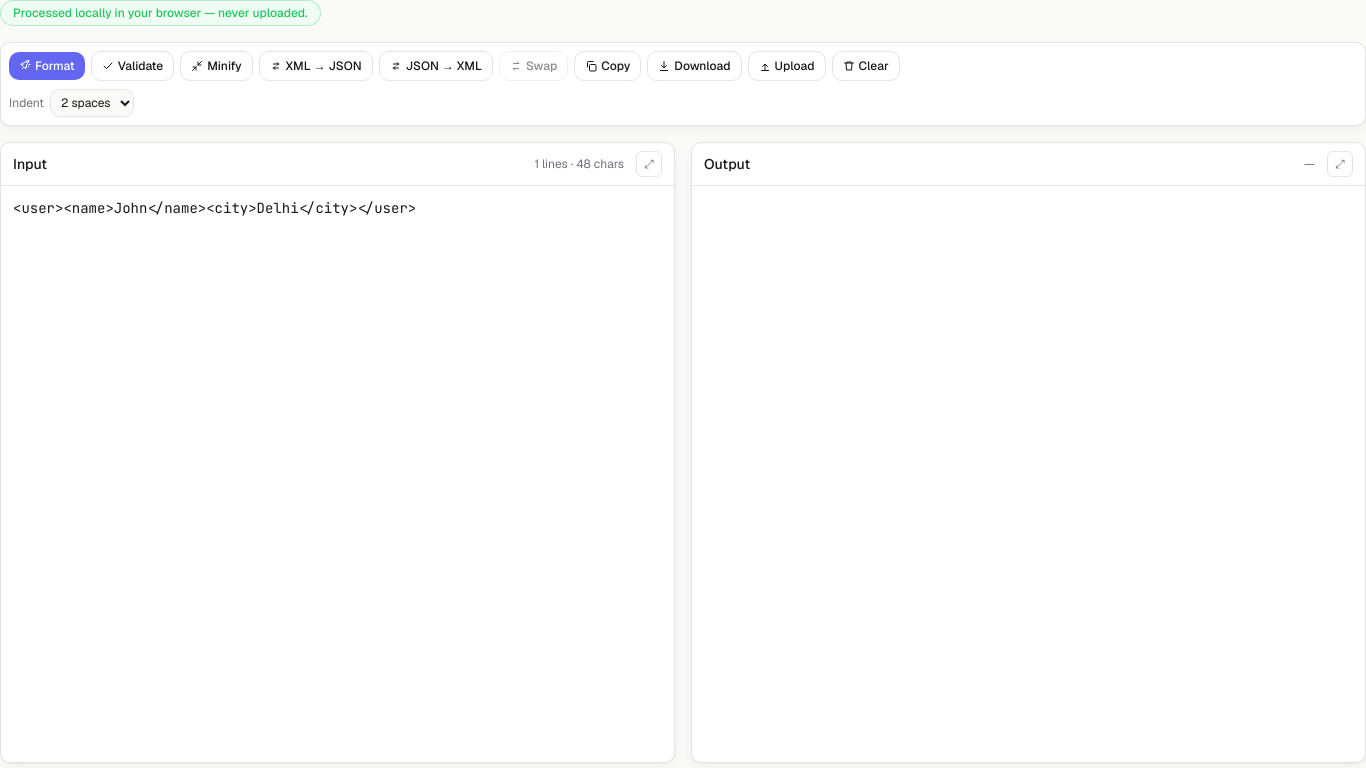
Scenario: XmlTool › formats XML on Format click
Step 1. Clear the text box named "input" → [338, 474], box [1,186,674,762]
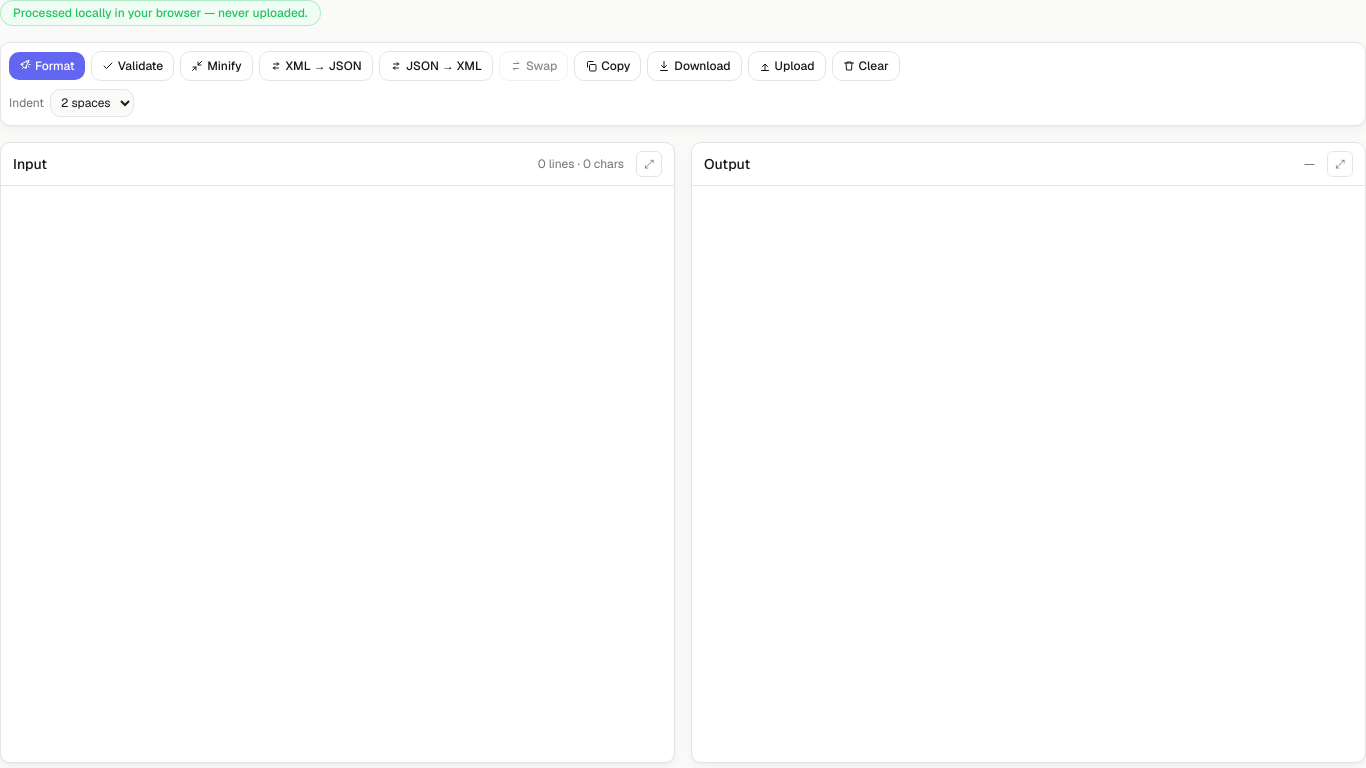
Step 2. Type keys "<a><b>x</b></a>"
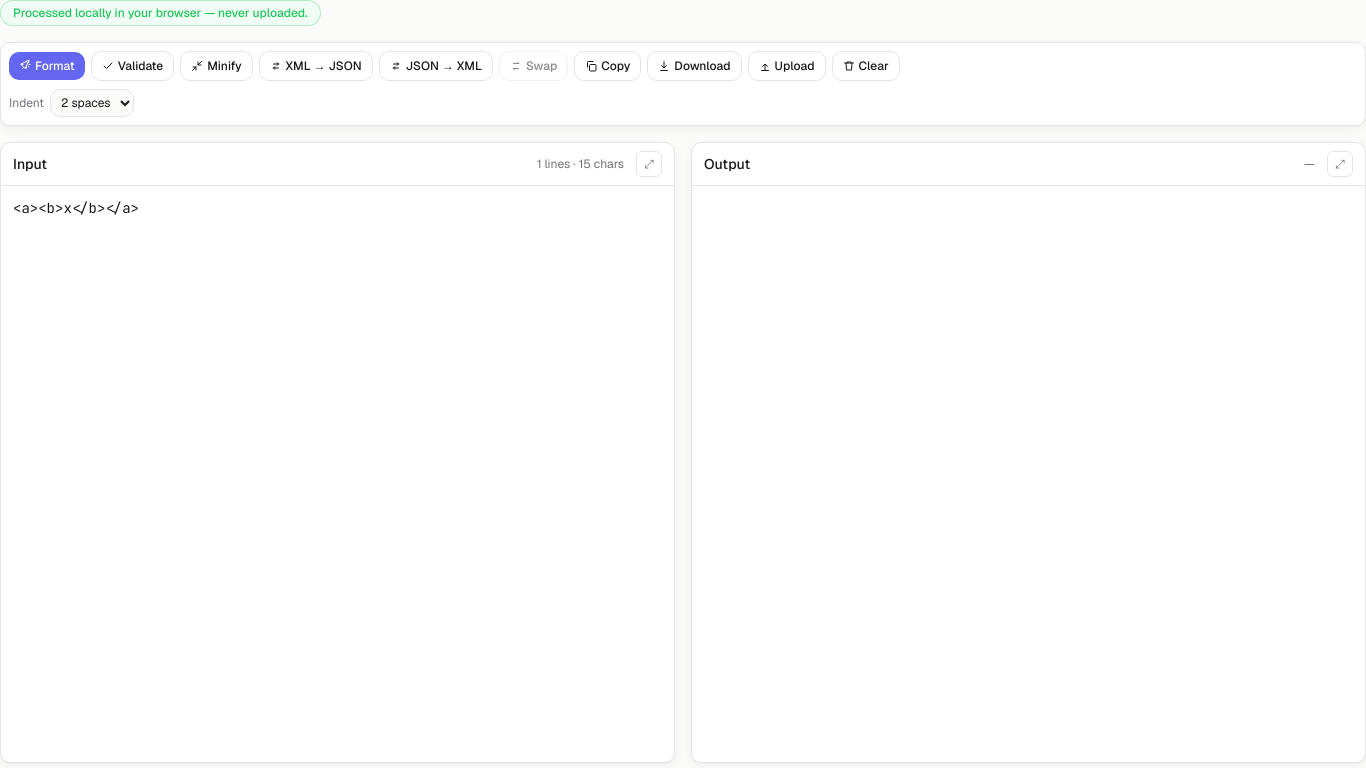
Step 3. Click the button "Format" → [47, 66], box [9,52,85,80]
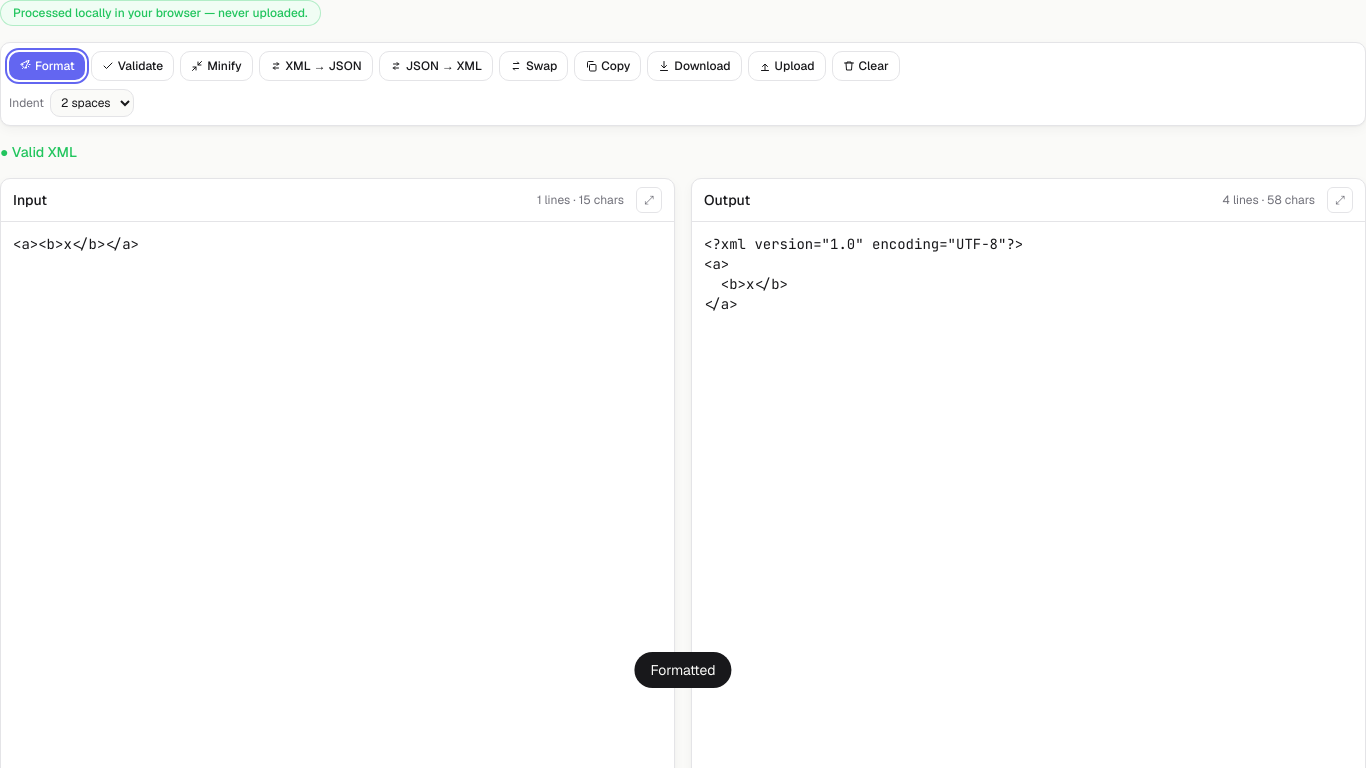
expect the text "● Valid XML" is shown: met, box [0,143,77,161]
